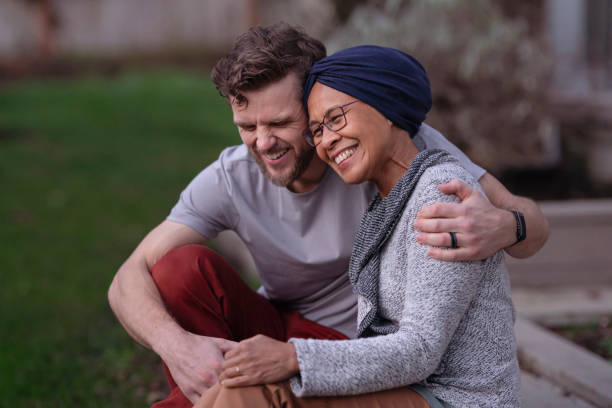without mask: (222, 64, 312, 186), (308, 76, 391, 184)
